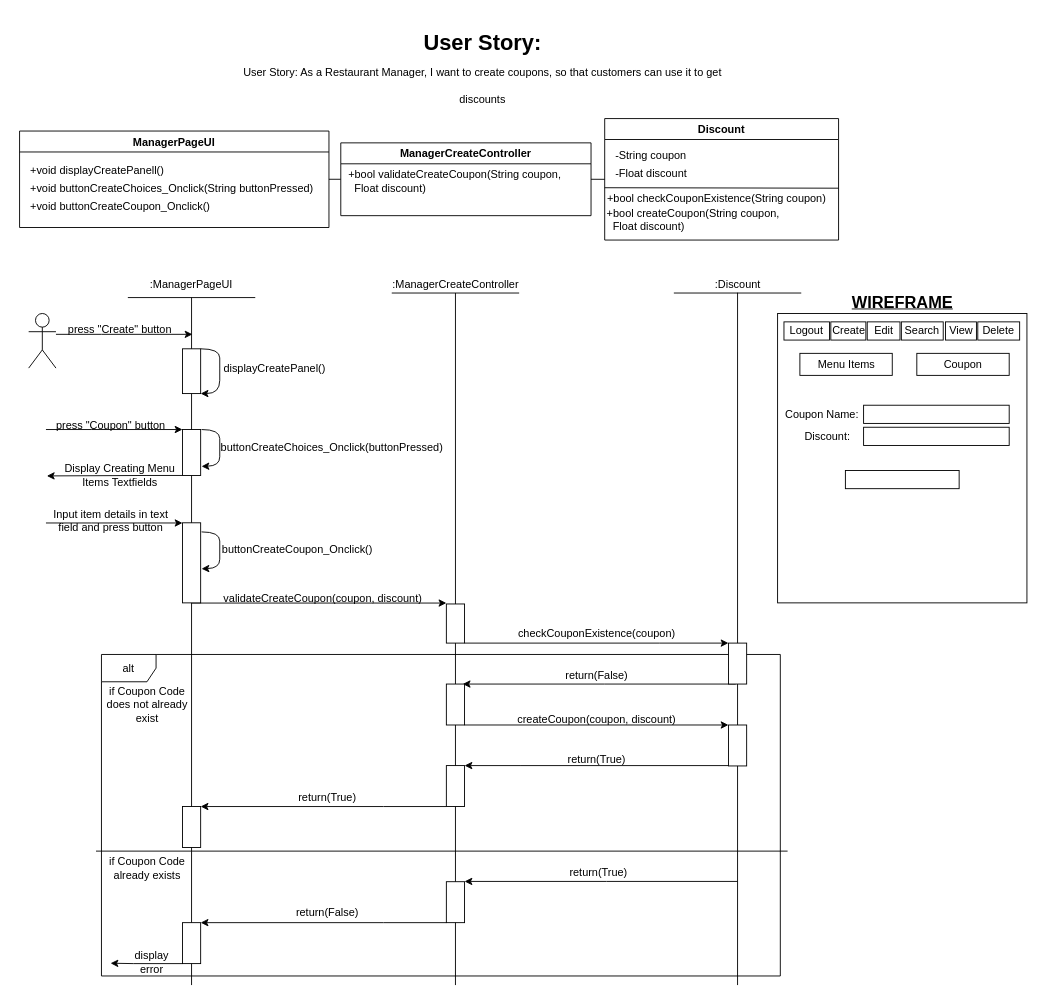
The diagram is 1043 pixels wide and 1002 high, and some of its shapes have lost their labels. The centre of each missing label's shape, as x and y in pixels:
Create Coupon: the point at 901,479
Restaurant Manager: the point at 42,340
